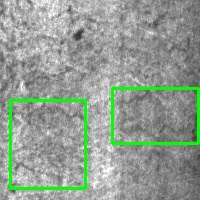crazing: (10, 100, 85, 188), (112, 89, 198, 143)
